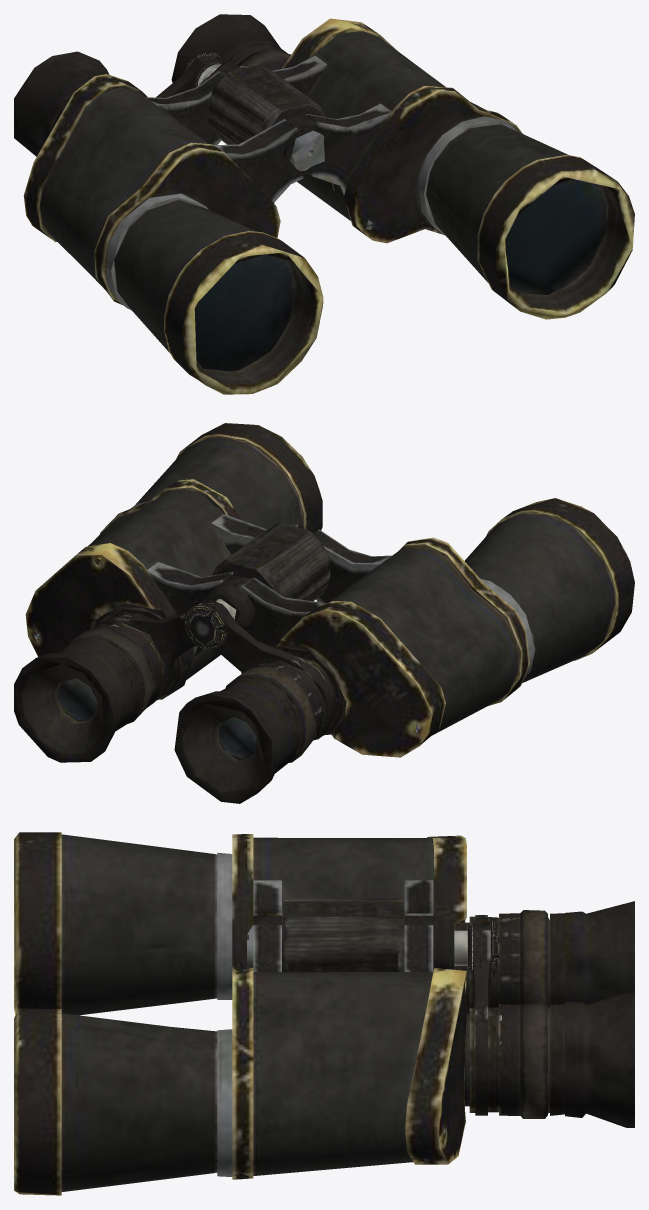
File: vintage_binocular.glb
3 renders of one model, top to bottom at view 1: azimuth 30°, elevation 25°; view 2: azimuth 150°, elevation 25°; view 3: azimuth 270°, elevation 25°, orthographic. The views are drawn at different scales.
Visible parts, largest first — view 1: vintage_binocular_right_prism, vintage_binocular_left_prism, vintage_binocular_right_lens, vintage_binocular_focus, vintage_binocular_left_lens, vintage_binocular_middle; view 2: vintage_binocular_right_prism, vintage_binocular_left_prism, vintage_binocular_left_lens, vintage_binocular_right_lens, vintage_binocular_focus, vintage_binocular_diopter, vintage_binocular_eye_relief, vintage_binocular_middle; view 3: vintage_binocular_left_prism, vintage_binocular_right_prism, vintage_binocular_left_lens, vintage_binocular_focus, vintage_binocular_right_lens, vintage_binocular_diopter, vintage_binocular_middle, vintage_binocular_eye_relief.
Boxes of the visible parts, x1=… form: vintage_binocular_right_prism: x1=23, y1=71, x2=323, y2=394; vintage_binocular_left_prism: x1=221, y1=18, x2=634, y2=319; vintage_binocular_right_lens: x1=14, y1=51, x2=224, y2=156; vintage_binocular_focus: x1=207, y1=65, x2=325, y2=144; vintage_binocular_left_lens: x1=171, y1=14, x2=290, y2=82; vintage_binocular_middle: x1=199, y1=61, x2=324, y2=171; vintage_binocular_right_prism: x1=227, y1=498, x2=634, y2=757; vintage_binocular_left_prism: x1=25, y1=423, x2=322, y2=699; vintage_binocular_left_lens: x1=14, y1=600, x2=205, y2=762; vintage_binocular_right_lens: x1=174, y1=602, x2=335, y2=803; vintage_binocular_focus: x1=212, y1=524, x2=330, y2=601; vintage_binocular_diopter: x1=225, y1=662, x2=324, y2=762; vintage_binocular_eye_relief: x1=184, y1=599, x2=236, y2=650; vintage_binocular_middle: x1=199, y1=581, x2=255, y2=630; vintage_binocular_left_prism: x1=14, y1=916, x2=466, y2=1195; vintage_binocular_right_prism: x1=14, y1=832, x2=466, y2=1015; vintage_binocular_left_lens: x1=464, y1=923, x2=634, y2=1127; vintage_binocular_focus: x1=282, y1=898, x2=404, y2=972; vintage_binocular_right_lens: x1=457, y1=901, x2=634, y2=1012; vintage_binocular_diopter: x1=499, y1=910, x2=547, y2=1004; vintage_binocular_middle: x1=247, y1=915, x2=454, y2=970; vintage_binocular_eye_relief: x1=454, y1=920, x2=498, y2=975.
Size of the model in its own units: 0.1934 by 0.0684 by 0.199.
1 material, 1 textured.
